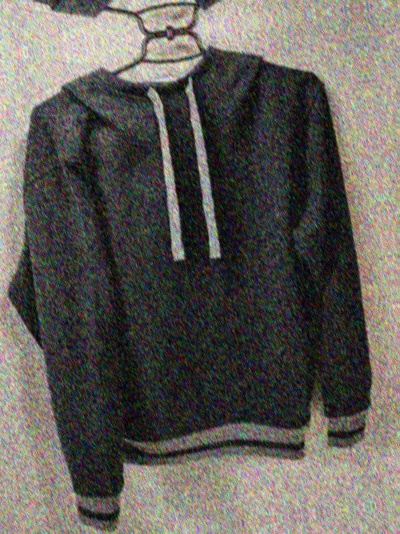Hoodie: (0, 22, 398, 533), (0, 0, 333, 47), (382, 0, 400, 479), (45, 520, 400, 534)
